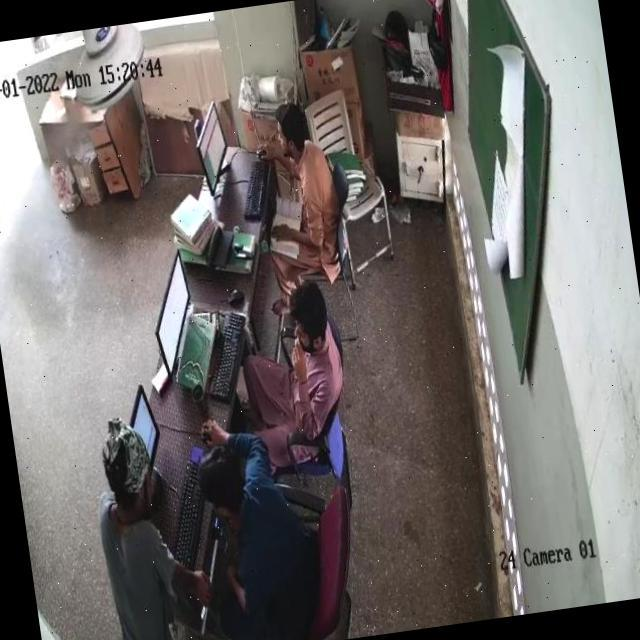person: (197, 415, 315, 621), (87, 408, 180, 640), (241, 272, 353, 429), (262, 102, 343, 280)
